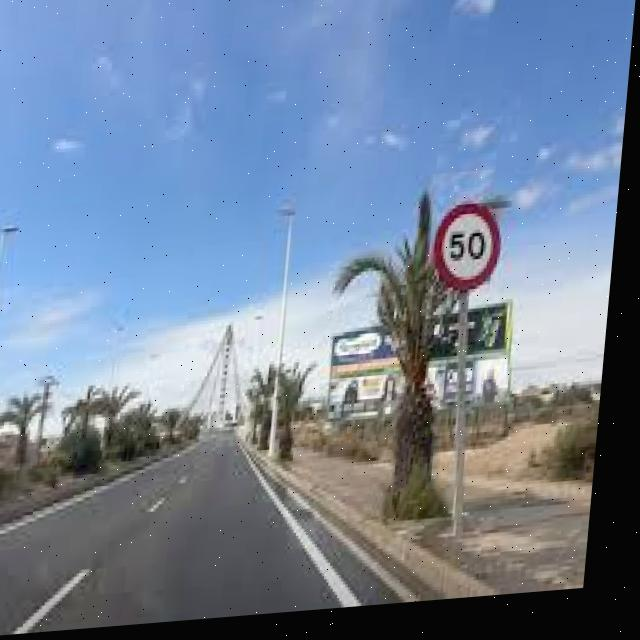Speed limit 50: (432, 204, 513, 302)
